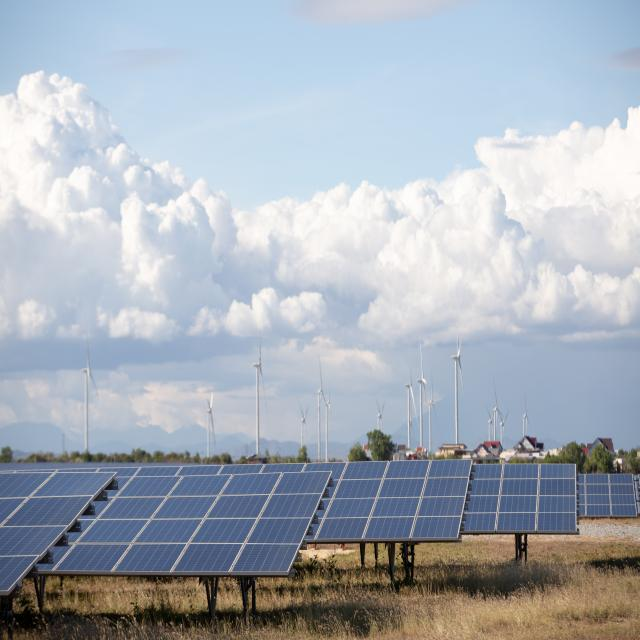clean-solar-panel: (0, 459, 640, 622)
